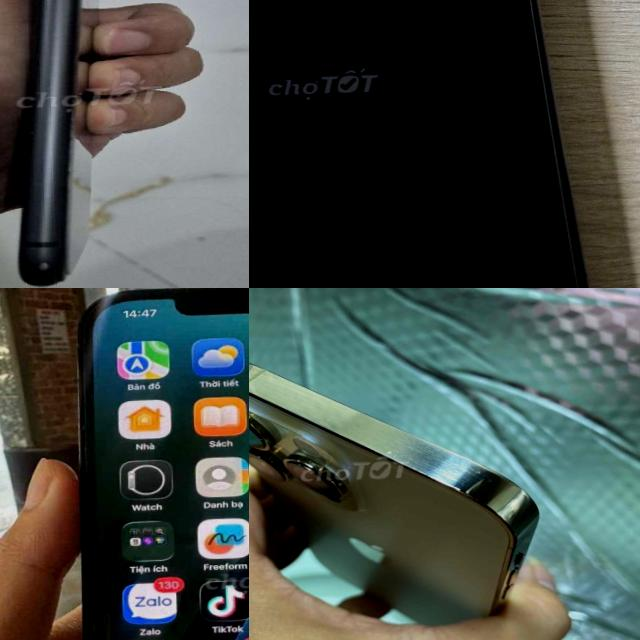gen_11: (0, 0, 151, 288)
gen_12_13: (249, 0, 640, 288), (58, 288, 249, 640)
gen_14: (249, 347, 548, 640)
scratch: (12, 108, 48, 173), (20, 247, 66, 278)
